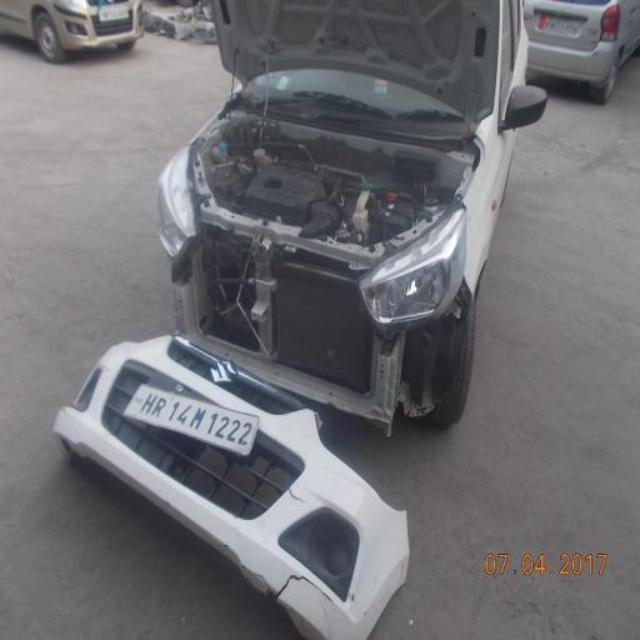no part: (167, 222, 467, 421)
